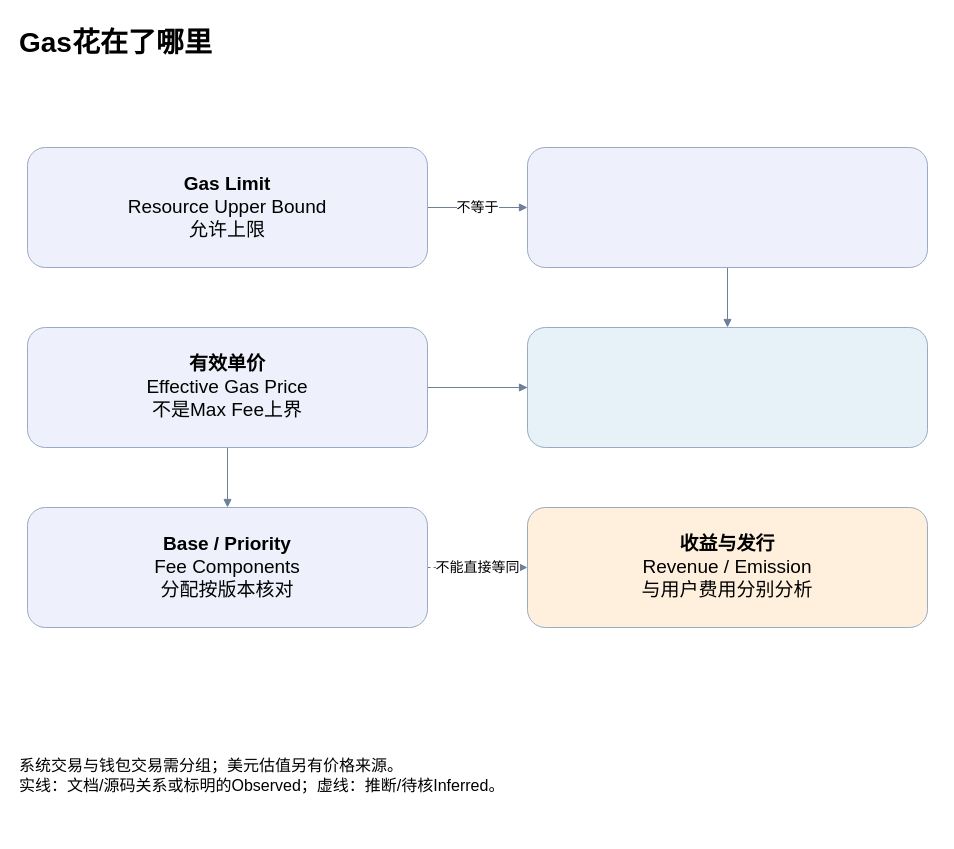
The diagram is 954 pixels wide and 849 high, and some of its shapes have lost their labels. Here are the shapes that lost their labels. From the top down, the box of each, then its label:
(526, 146, 928, 268): Gas Used Actual Resource Use 实际消耗
(526, 326, 928, 448): 执行费用 Gas Used × Price 按原生最小单位计算
